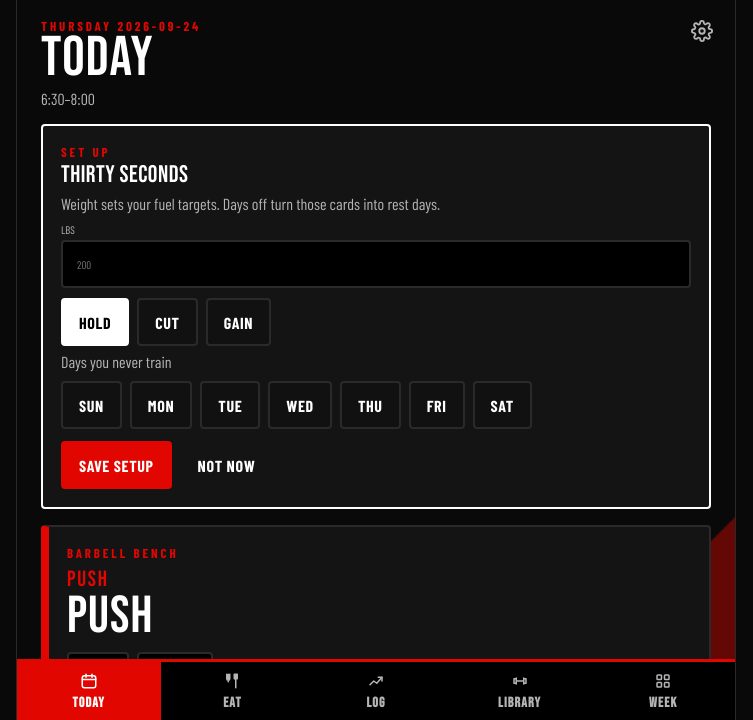
Test: Gym Log app › opens Settings from the gear
Click the button named "Settings": (701, 31) [679, 8, 723, 54]
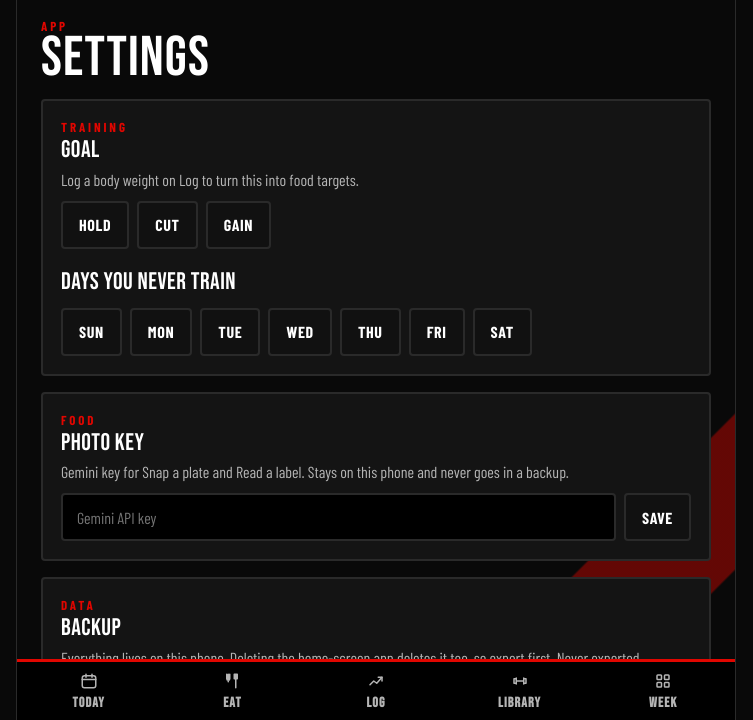
Check: the text "Settings" is shown, box [41, 25, 210, 92]
